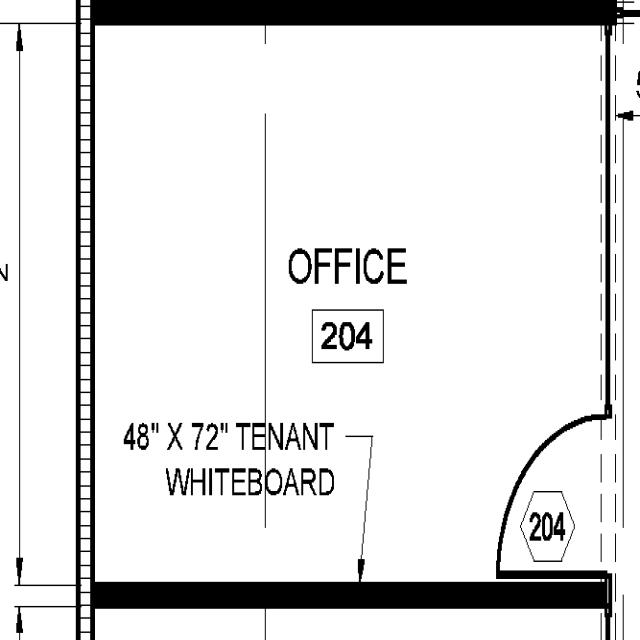Doors: (491, 406, 621, 583)
